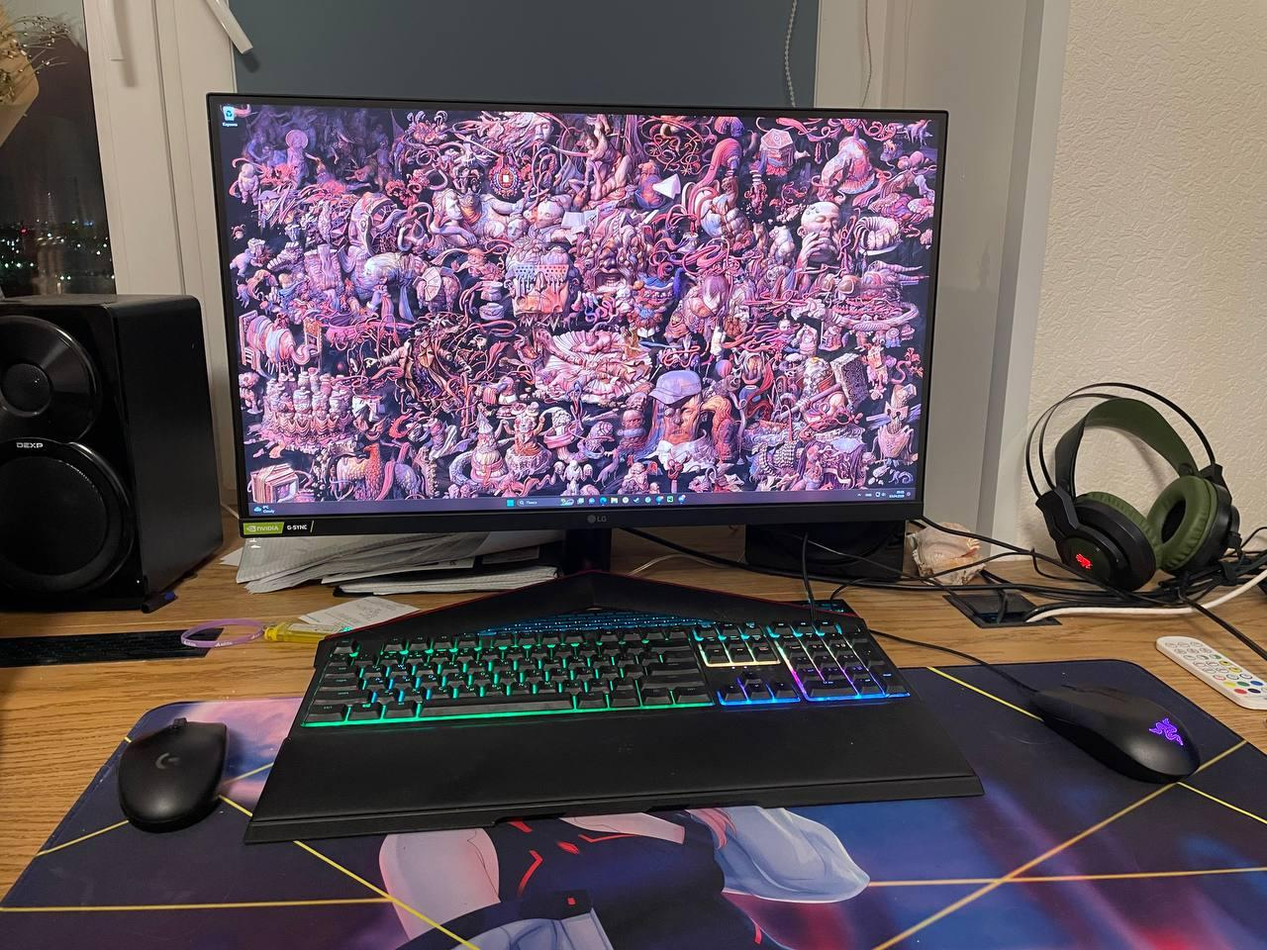monitor: (204, 86, 953, 541)
